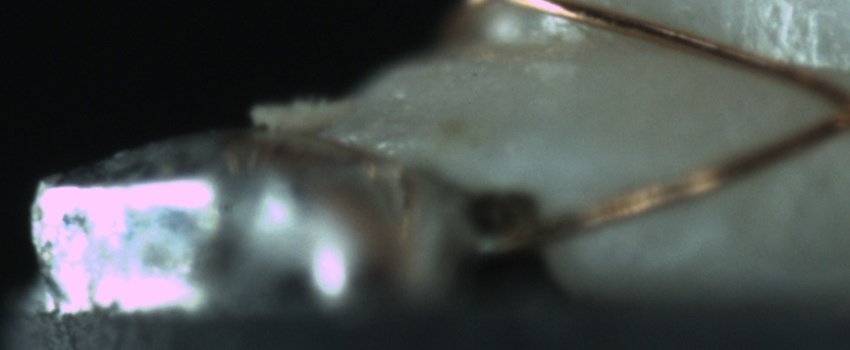CL: (804, 64, 850, 143)
